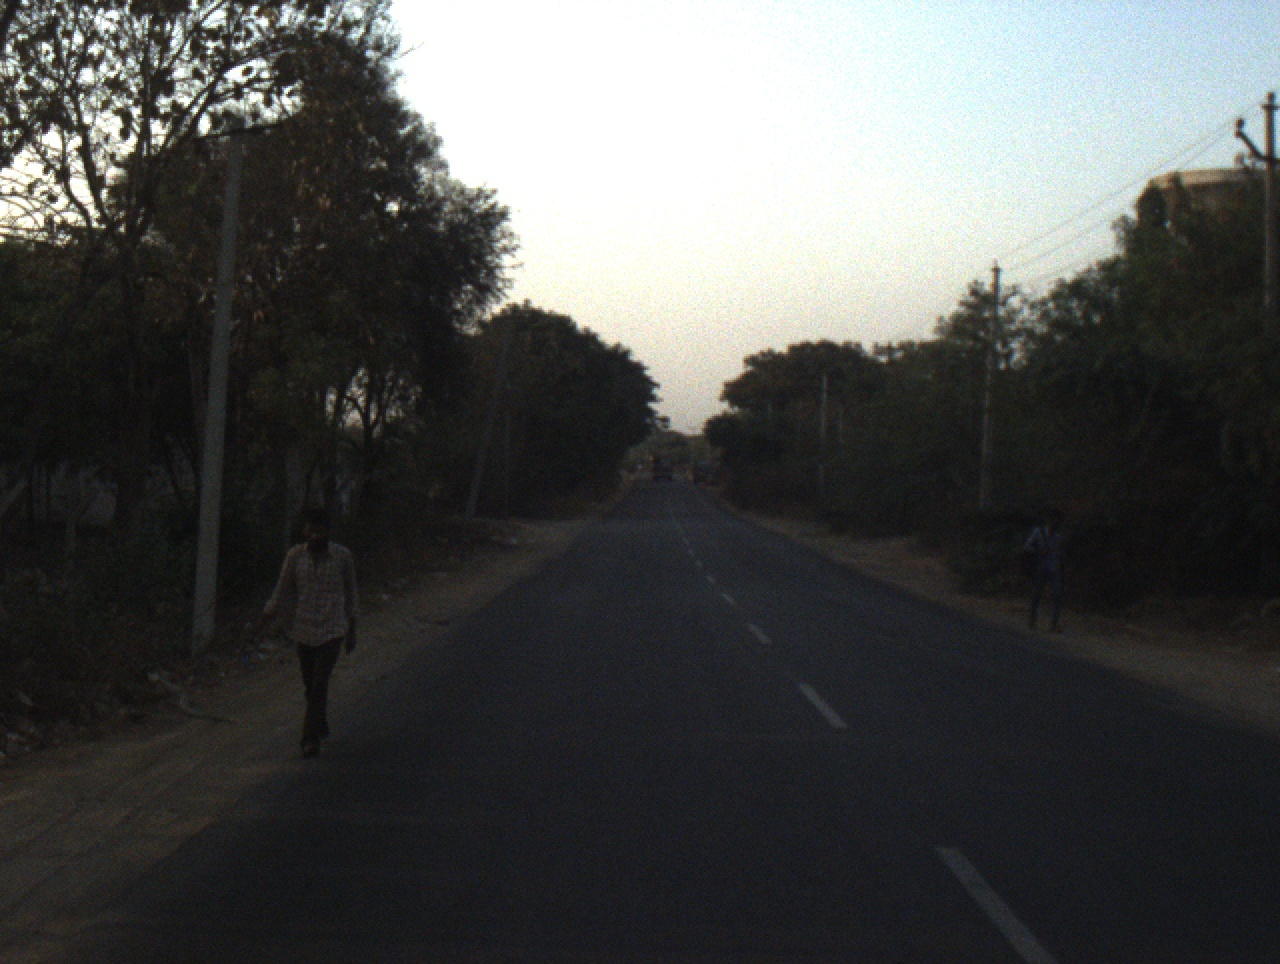person: (255, 508, 365, 764), (1015, 502, 1077, 639)
truck: (648, 451, 674, 491), (684, 457, 710, 485)
